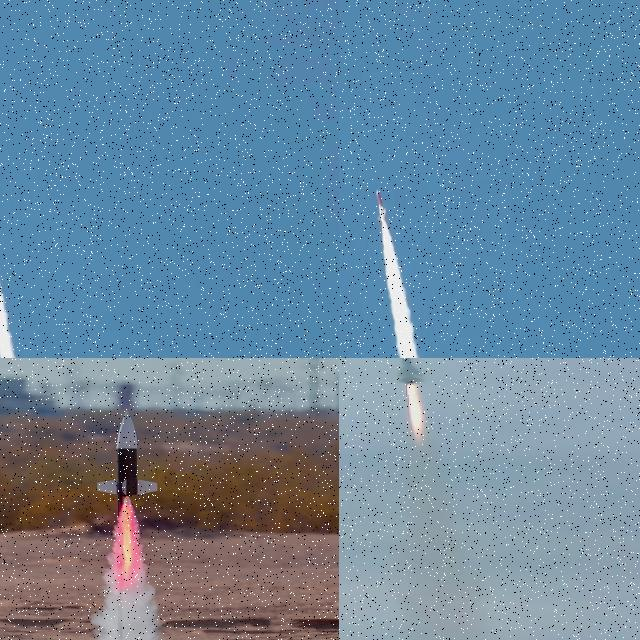Rocket: (96, 410, 159, 500), (386, 358, 424, 384), (376, 188, 388, 219)
